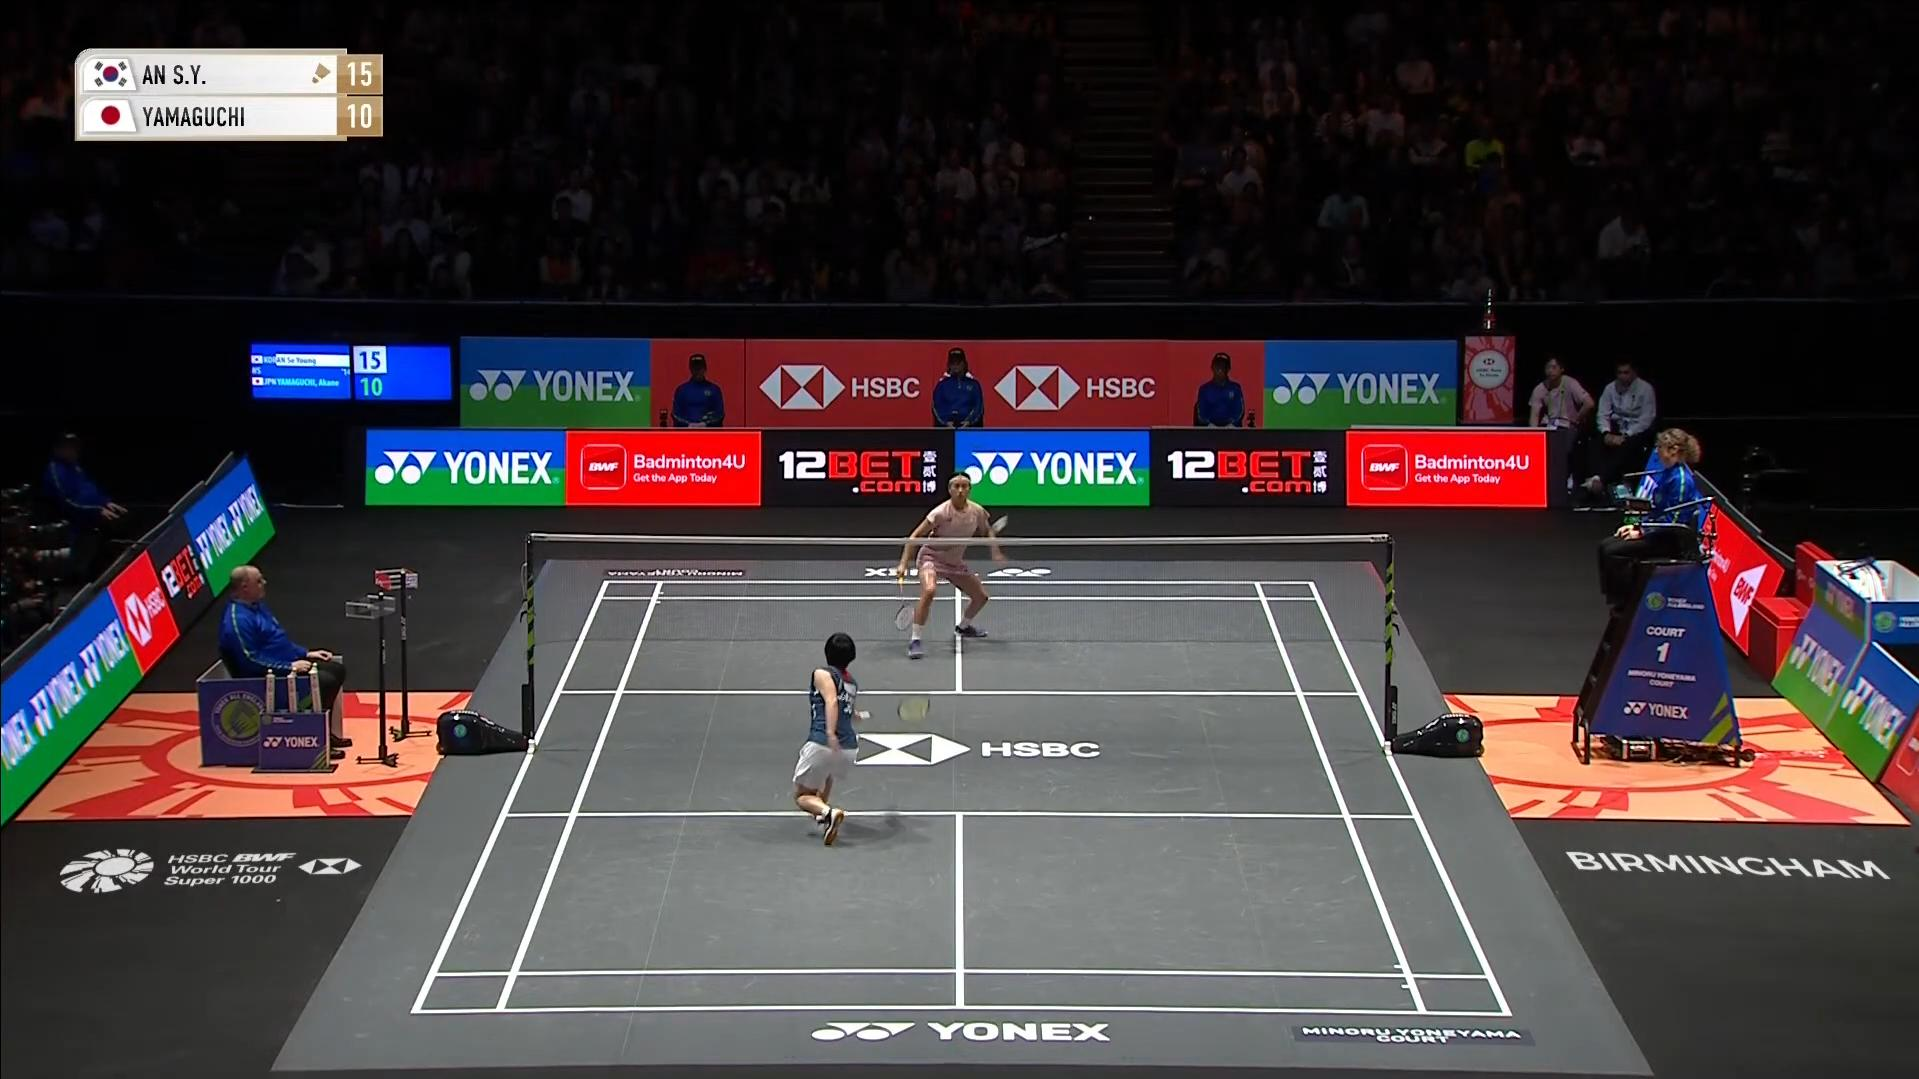shuttle: (985, 505, 1012, 540)
